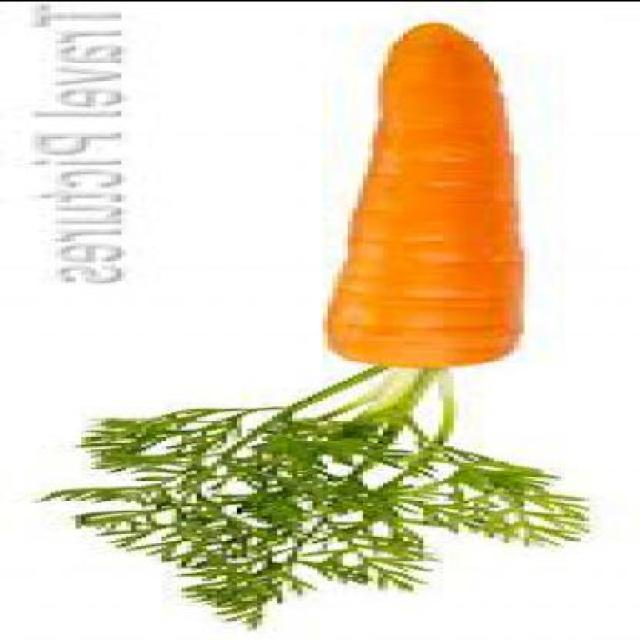BIODEGRADABLE: (33, 366, 591, 625), (325, 23, 523, 368)
